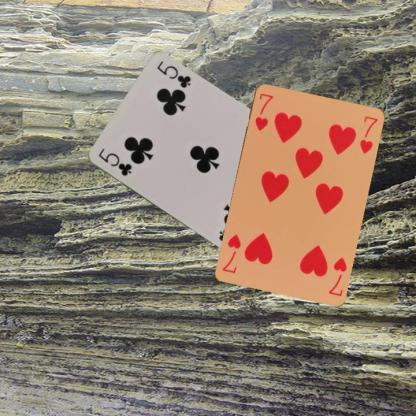5c: (95, 146, 133, 178)
7h: (326, 254, 348, 298), (252, 90, 274, 132)
